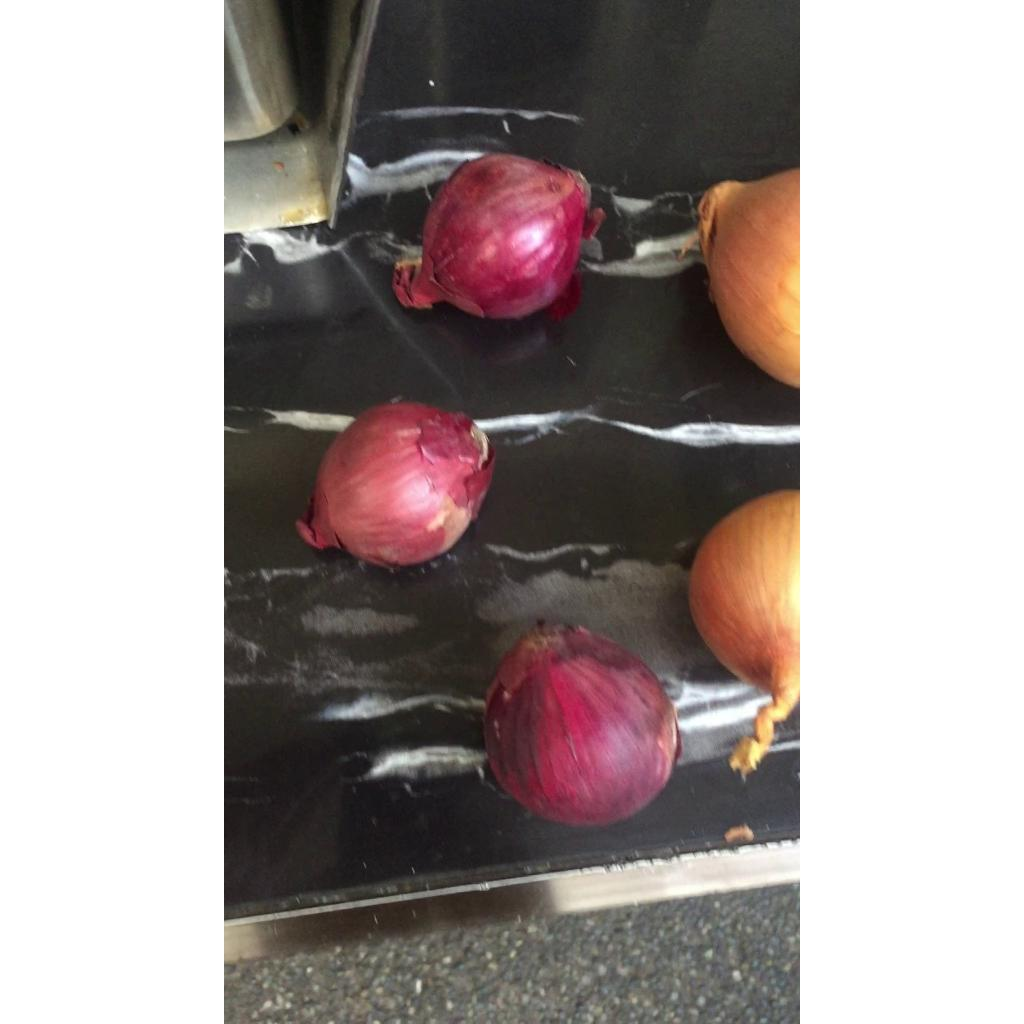Onion: (483, 625, 678, 827), (391, 153, 604, 319), (295, 402, 494, 567), (689, 491, 800, 777), (700, 167, 800, 387)
